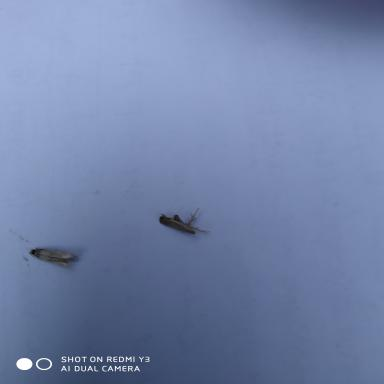pbw: (156, 211, 203, 237), (28, 243, 76, 268)
